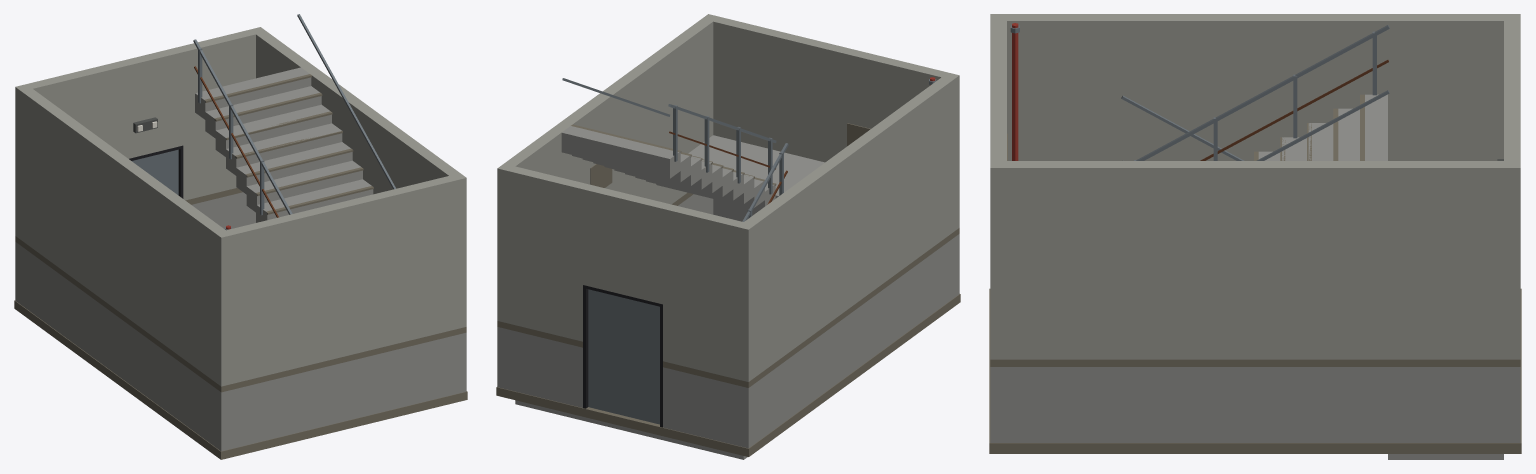
The model's file is tw_stair_flight.glb.
3 renders of one model, left to right at view 1: azimuth 30°, elevation 25°; view 2: azimuth 150°, elevation 25°; view 3: azimuth 270°, elevation 25°, orthographic. The views are drawn at different scales.
Parts seen in each view (by area): view 1: tw_stair_flight; view 2: tw_stair_flight; view 3: tw_stair_flight.
Boxes of the visible parts, left/top/right/bottom form: tw_stair_flight: left=14, top=14, right=467, bottom=459; tw_stair_flight: left=496, top=14, right=960, bottom=459; tw_stair_flight: left=989, top=14, right=1521, bottom=459.
Size of what is drawn, in the model's own units: 4.42 by 4.9 by 6.42.
2 materials, 2 textured.
